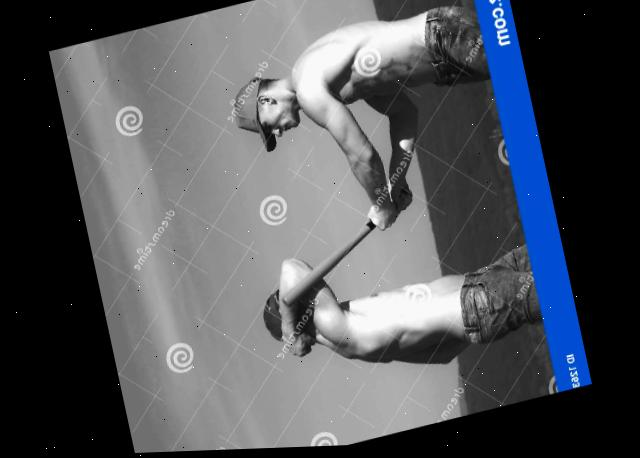baseball bat: (266, 186, 425, 311)
